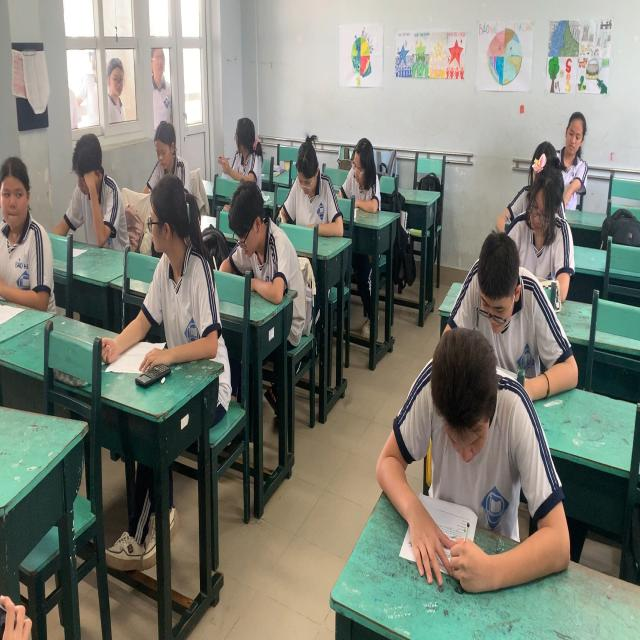cheating: (140, 171, 223, 368), (0, 146, 47, 316), (208, 108, 266, 192)
not_cheating: (372, 344, 562, 554), (467, 237, 548, 392), (218, 178, 289, 309), (58, 129, 122, 257), (514, 115, 564, 268), (282, 136, 350, 244), (558, 102, 593, 222), (336, 130, 381, 220), (136, 112, 190, 184)
